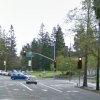Tree: (19, 17, 64, 70)
